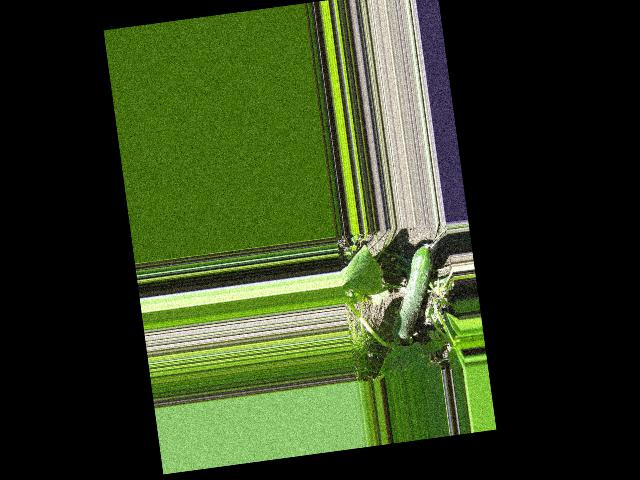cucumber: (381, 243, 443, 342)
